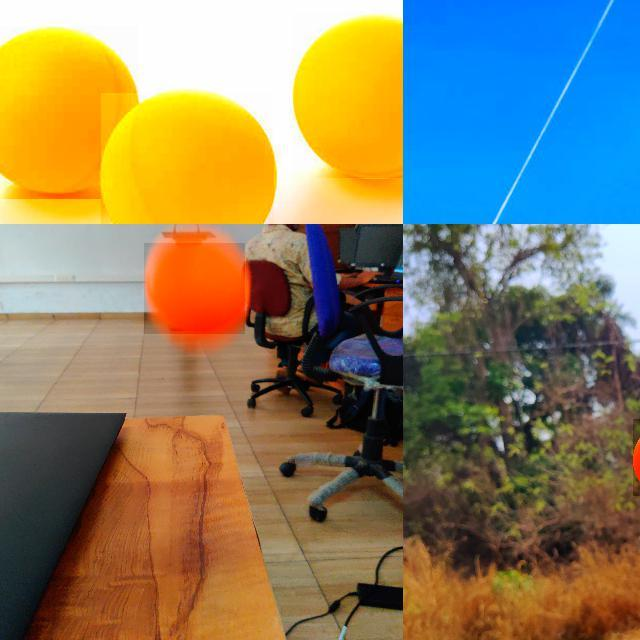ping-pong-ball: (0, 26, 140, 201), (100, 92, 276, 223), (292, 12, 402, 180), (144, 243, 246, 335)
